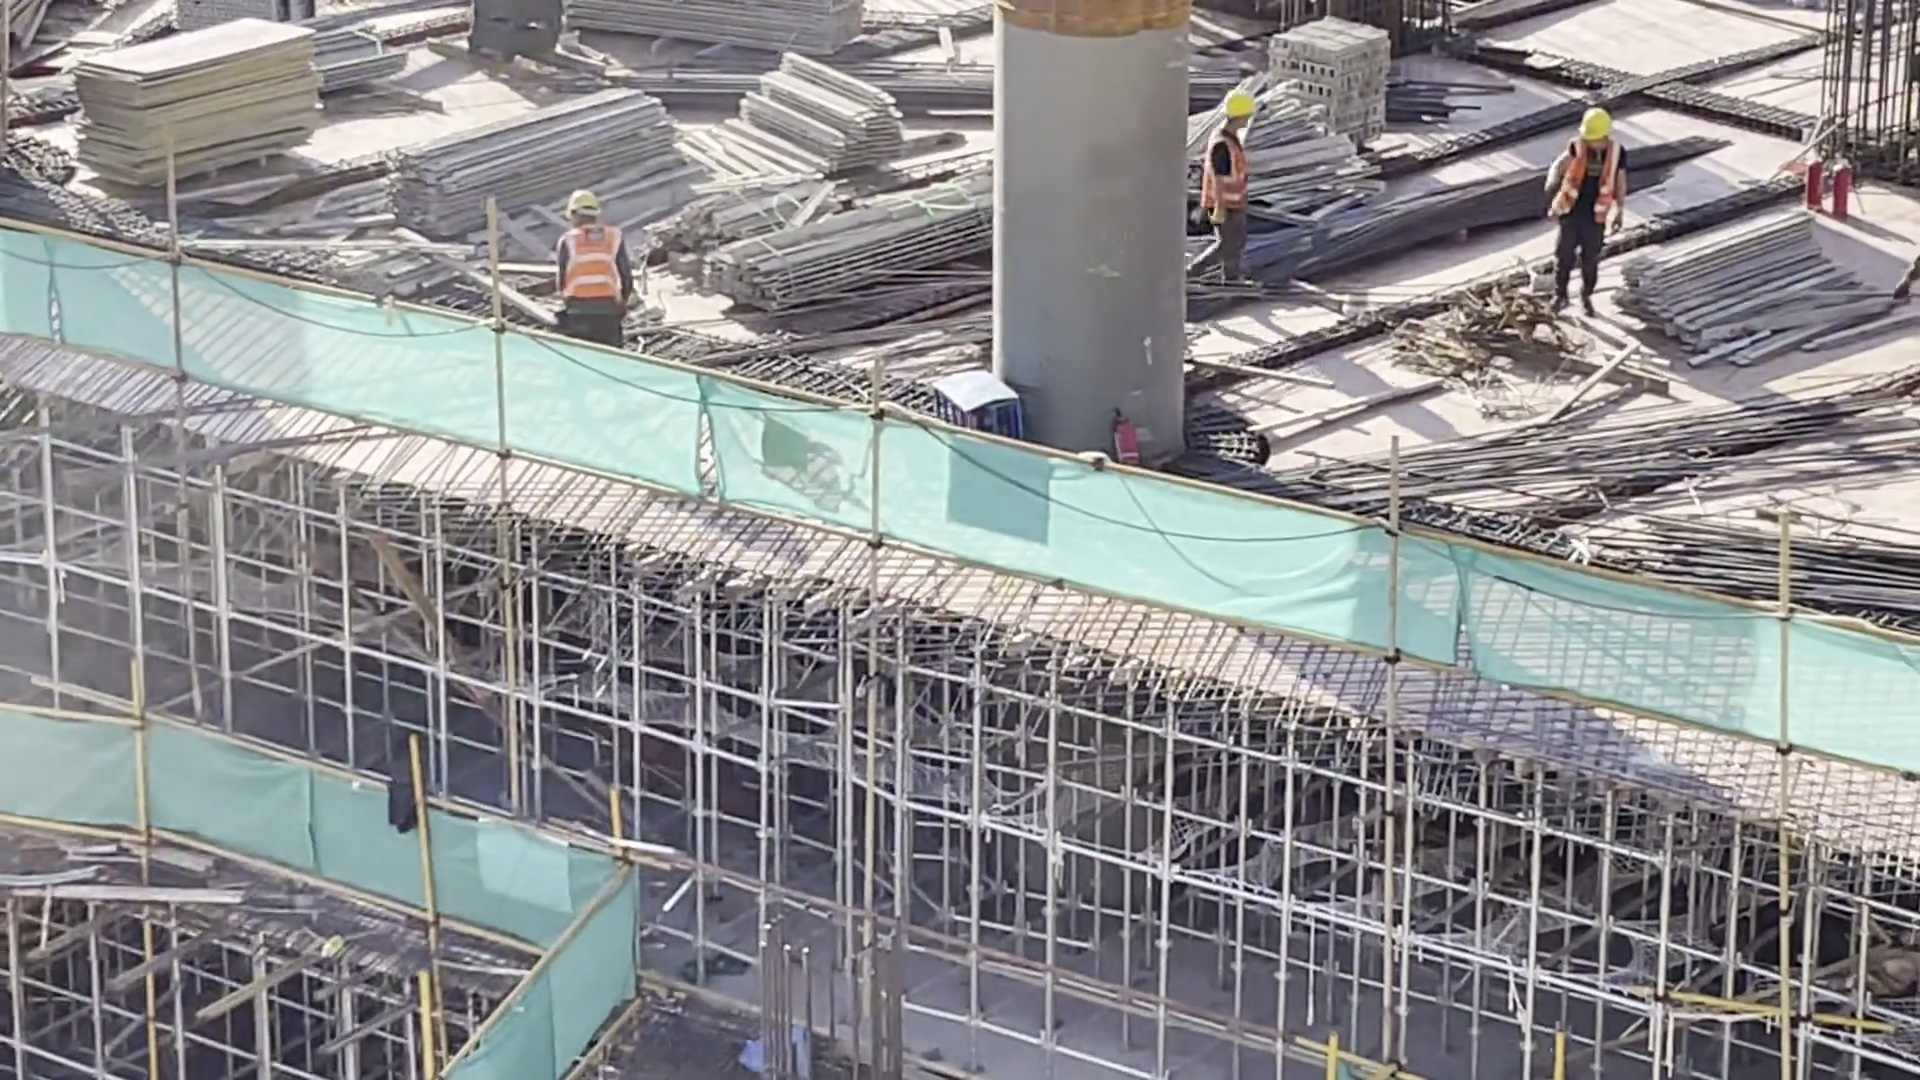helmet: (1578, 101, 1619, 146), (1218, 83, 1253, 123), (571, 186, 602, 216)
person: (537, 182, 641, 352), (1551, 92, 1624, 324), (1196, 80, 1267, 275)
vest: (550, 226, 642, 315), (1544, 142, 1619, 242), (1198, 135, 1255, 205)
